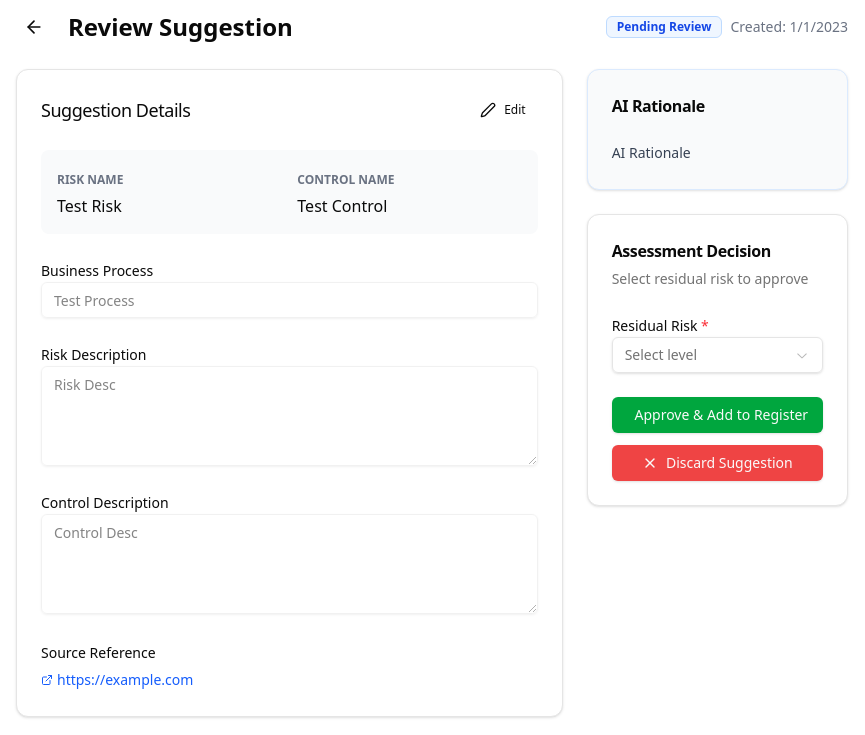
Test: BPOReviewDetailPage › validates residual risk before approval
Click the button "Approve & Add to Register": coordinates (717, 415) 612,397 -> 823,433
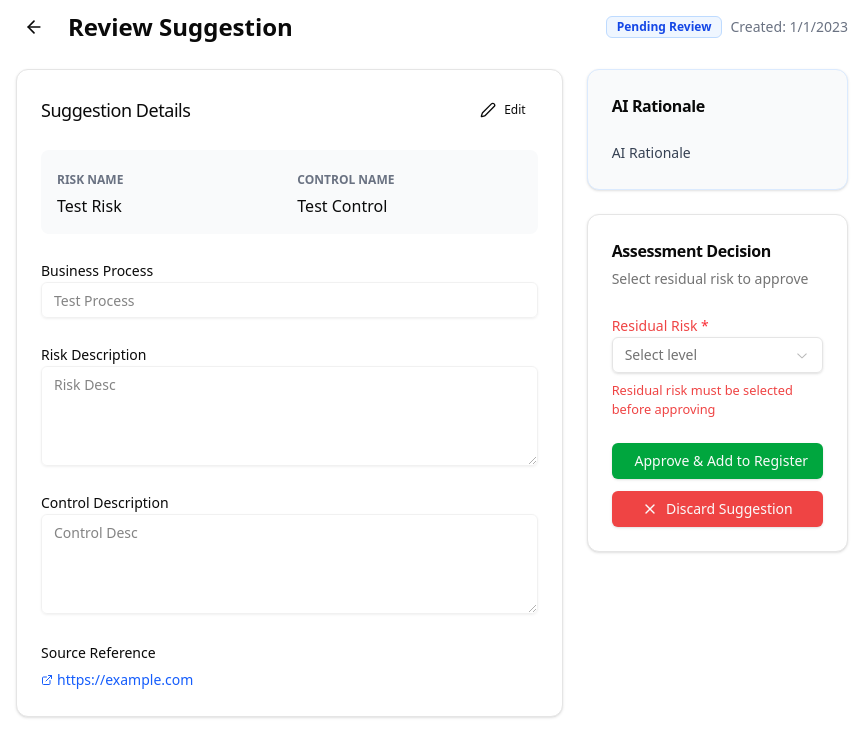
Check: the text "Residual risk must be selected before approving" is shown, box 612,381 -> 823,419
